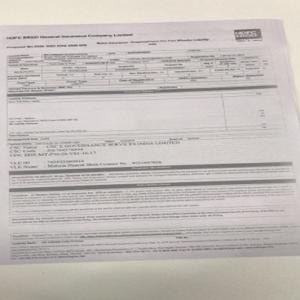image: (232, 25, 264, 42)
table: (1, 84, 291, 139), (4, 47, 277, 95)
text: (6, 136, 206, 165)
